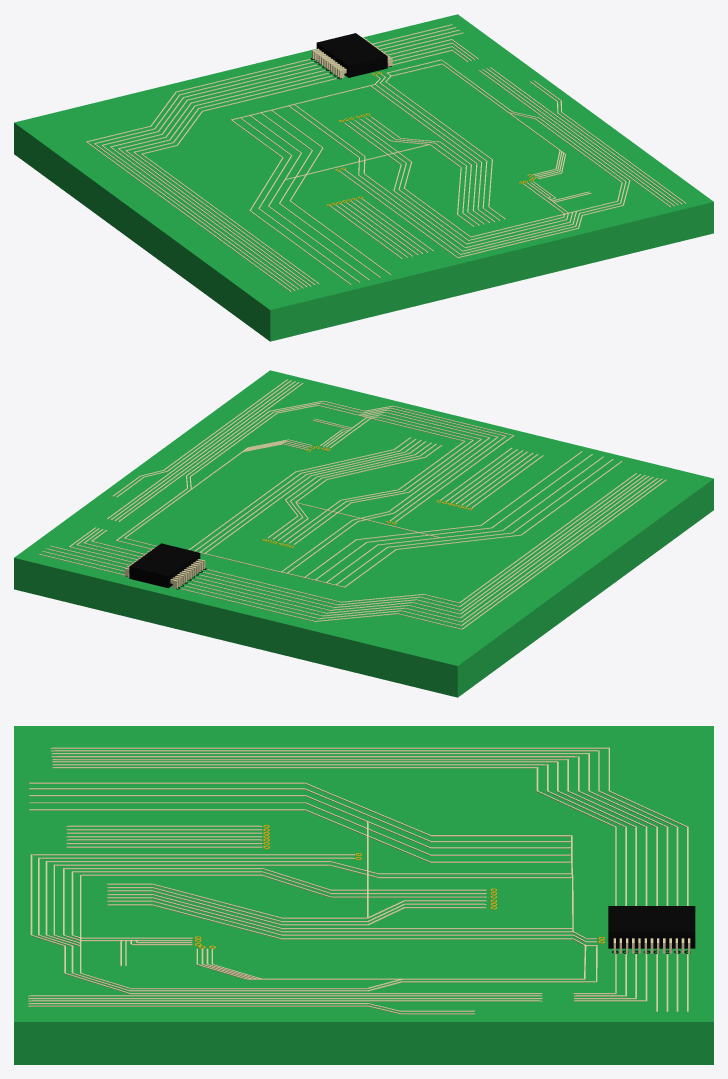
Rendered from Calculating Circuit.fbx.
3 renders of one model, top to bottom at view 1: azimuth 30°, elevation 25°; view 2: azimuth 150°, elevation 25°; view 3: azimuth 270°, elevation 25°, orthographic. The views are drawn at different scales.
Visible parts, largest first — view 1: Calculating Circuit; view 2: Calculating Circuit; view 3: Calculating Circuit.
Boxes of the visible parts, left/top/right/bottom form: Calculating Circuit: left=14, top=14, right=713, bottom=341; Calculating Circuit: left=14, top=370, right=713, bottom=697; Calculating Circuit: left=14, top=726, right=713, bottom=1064.
Bounding box in the file's own units: 200 × 19.09 × 200.
